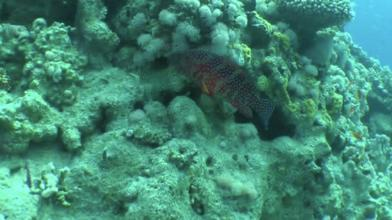Serranidae -Groupers-: (165, 45, 276, 131)
